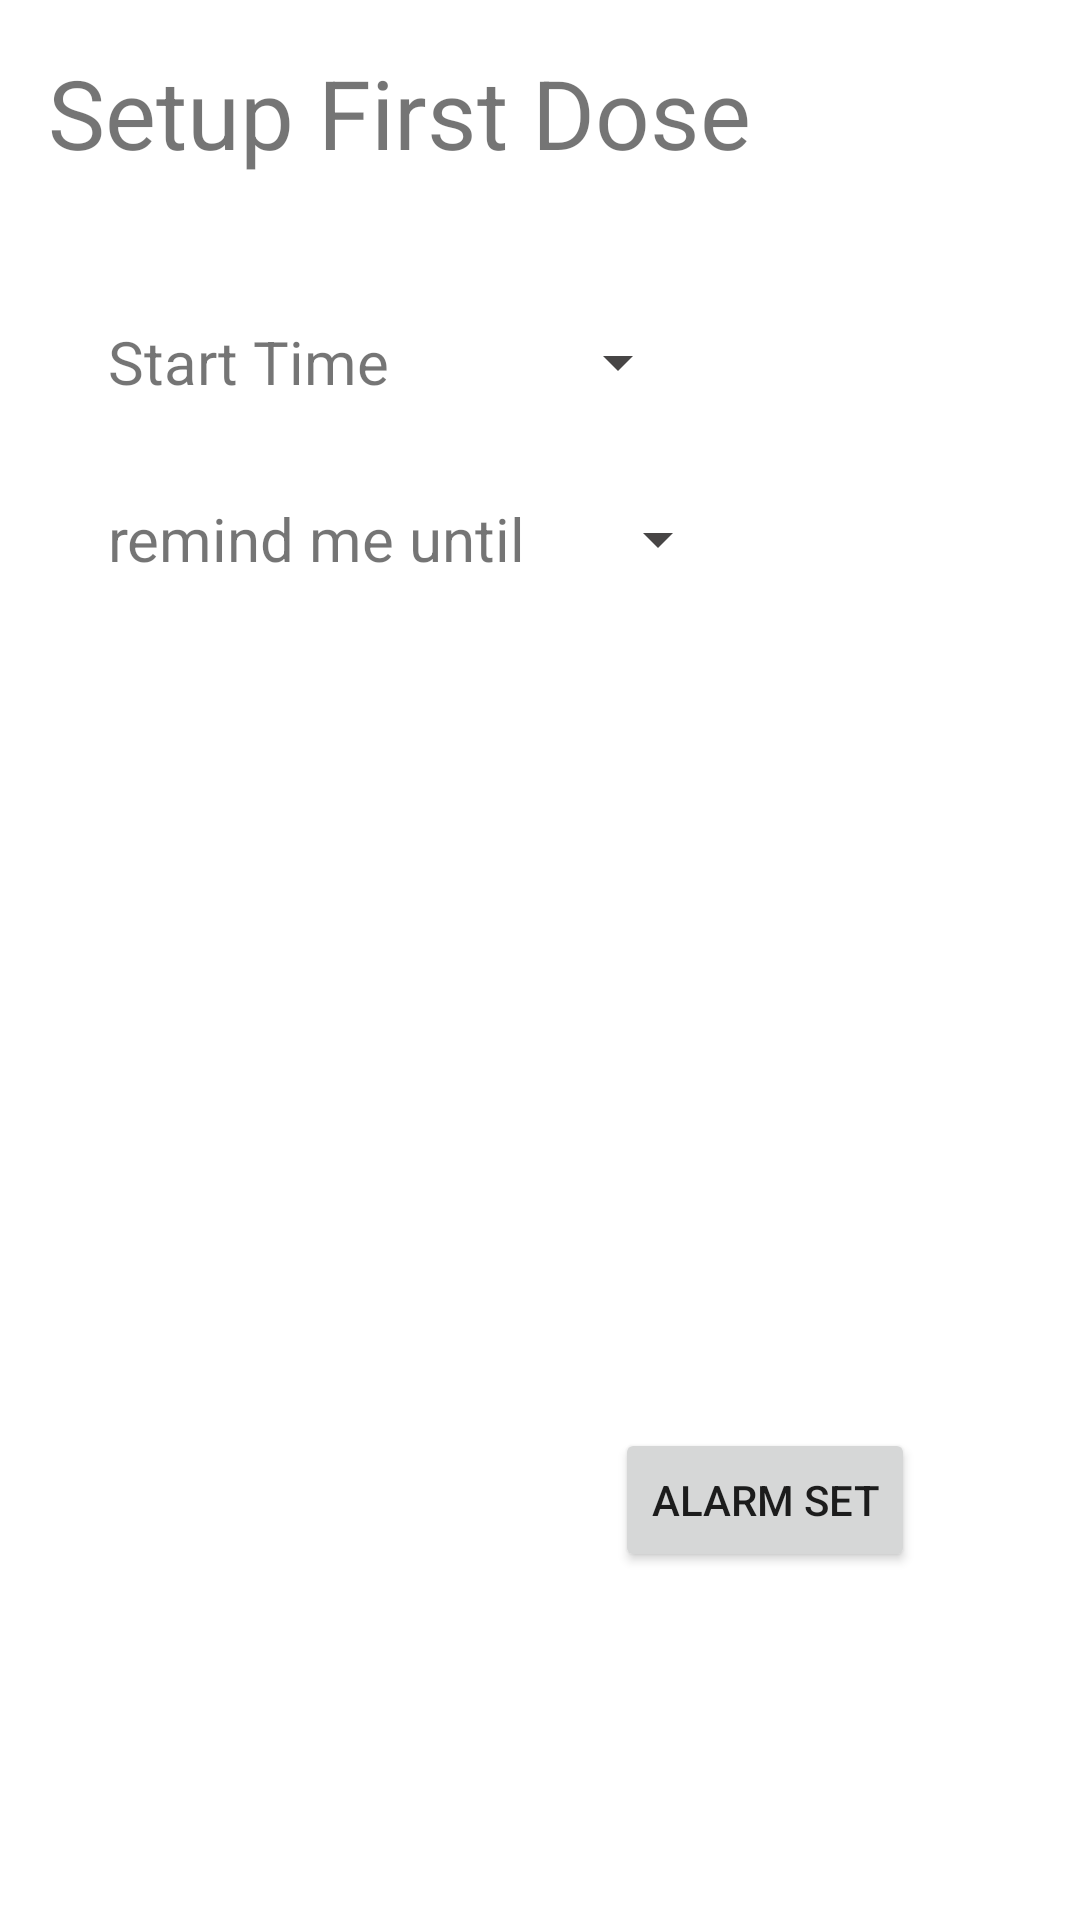

Icon click points for this 1080 x 1920 phone screenshot, format [x,y]:
arrow drop down: [618,363], [658,540]
